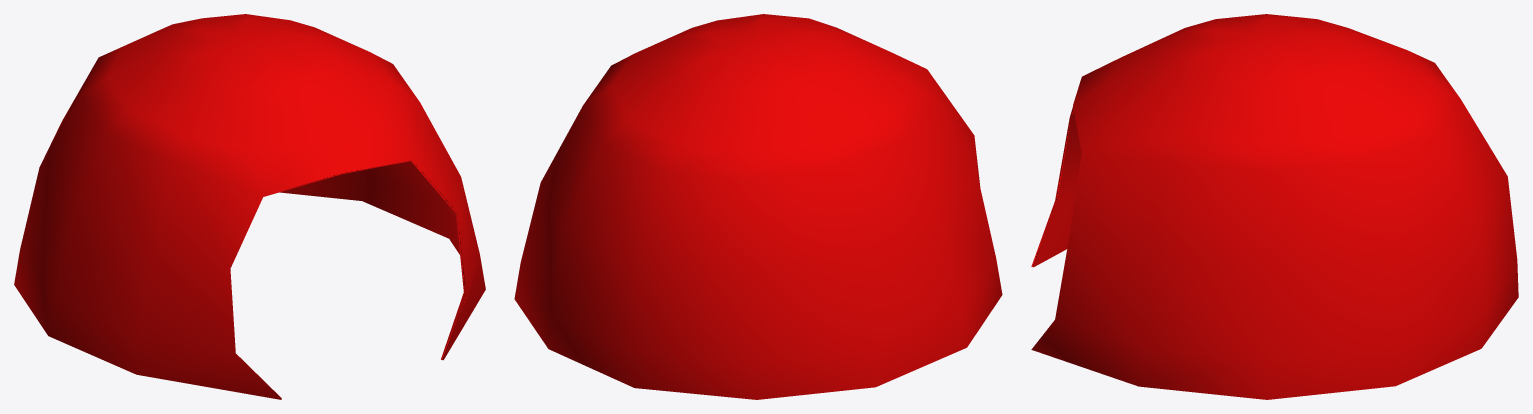
The model's file is short cut 2.fbx.
3 renders of one model, left to right at view 1: azimuth 30°, elevation 25°; view 2: azimuth 150°, elevation 25°; view 3: azimuth 270°, elevation 25°, orthographic. The views are drawn at different scales.
Visible parts, largest first — view 1: pCylinder1; view 2: pCylinder1; view 3: pCylinder1.
Boxes of the visible parts, x1=… form: pCylinder1: x1=14, y1=14, x2=485, y2=399; pCylinder1: x1=514, y1=14, x2=1002, y2=399; pCylinder1: x1=1031, y1=14, x2=1518, y2=399.
Size of the model in its own units: 626 by 382 by 625.
